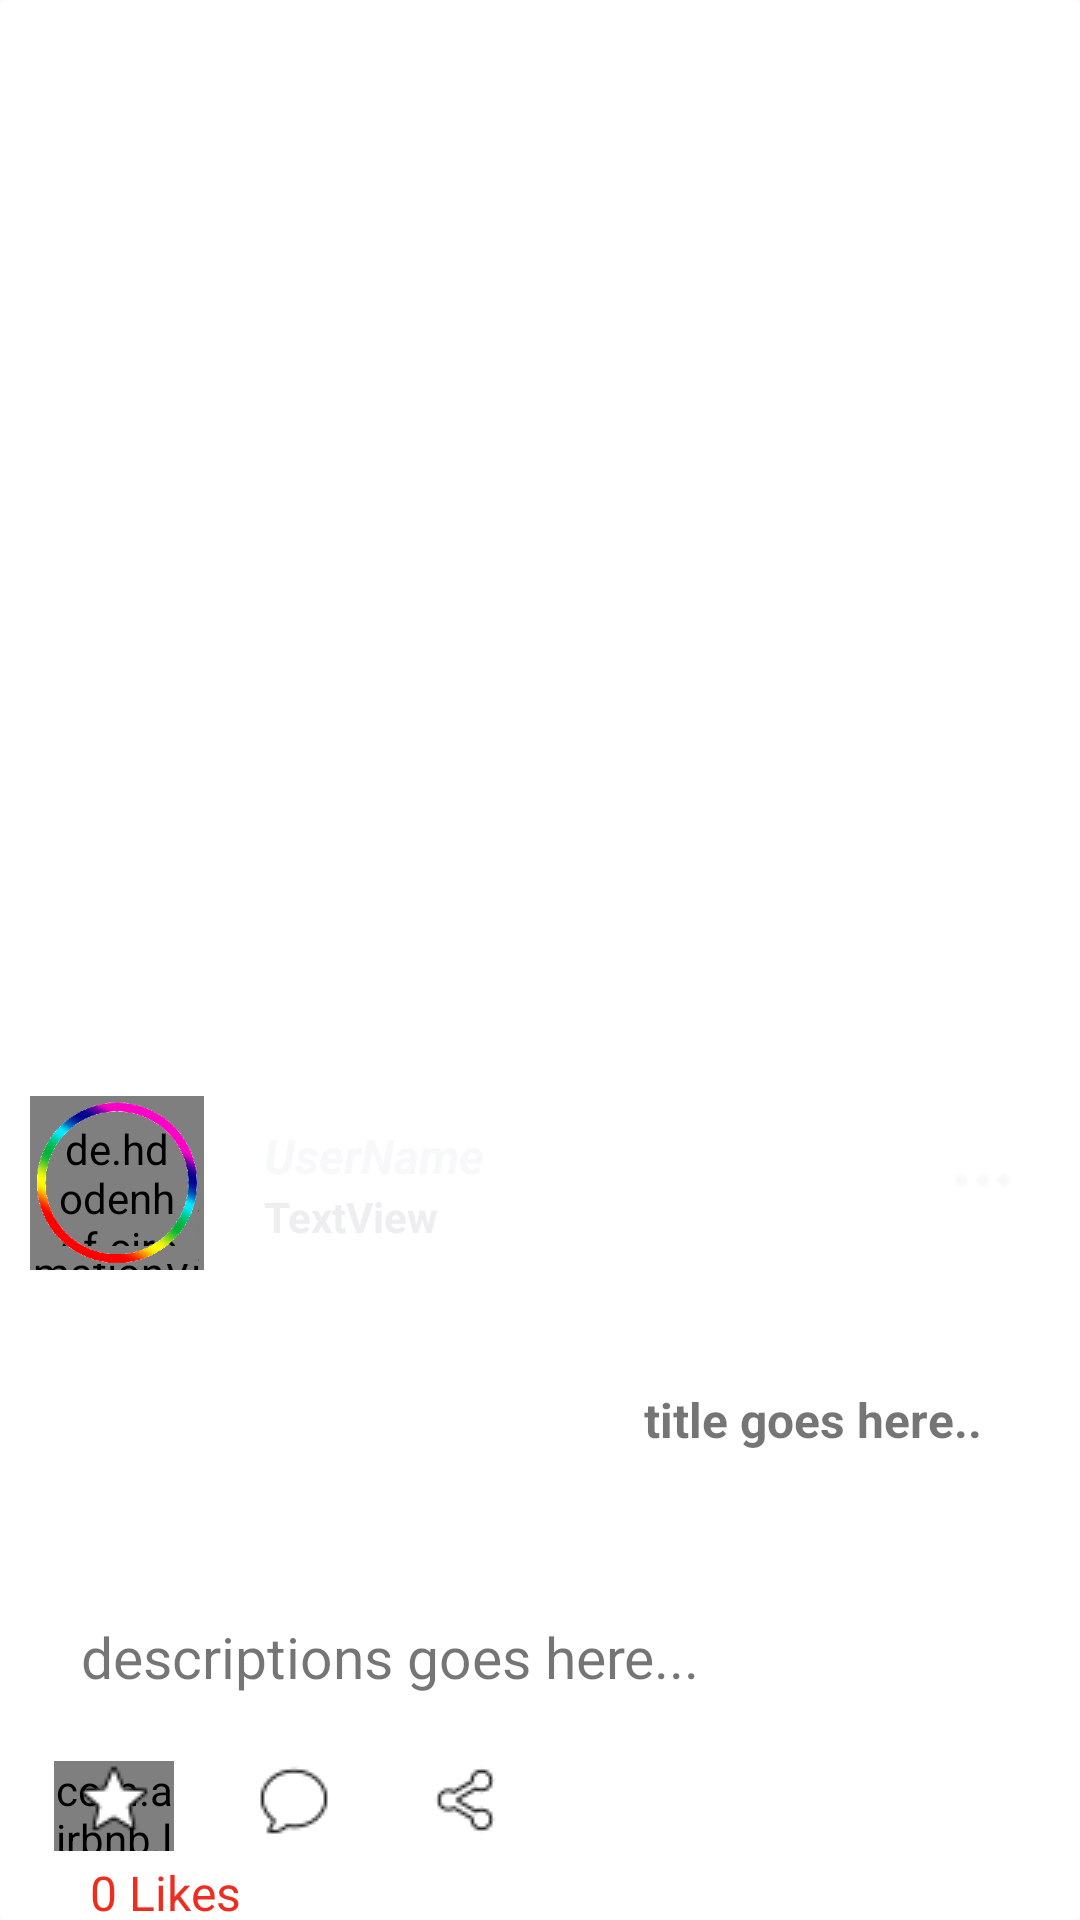

Screen size 1080 x 1920. Icon name, then its box in pixels as (x1, y1, x2, y2):
comment: (260, 1768, 328, 1834)
share: (437, 1769, 494, 1831)
